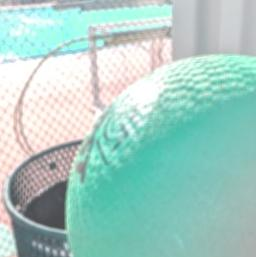algae: (67, 51, 256, 257)
